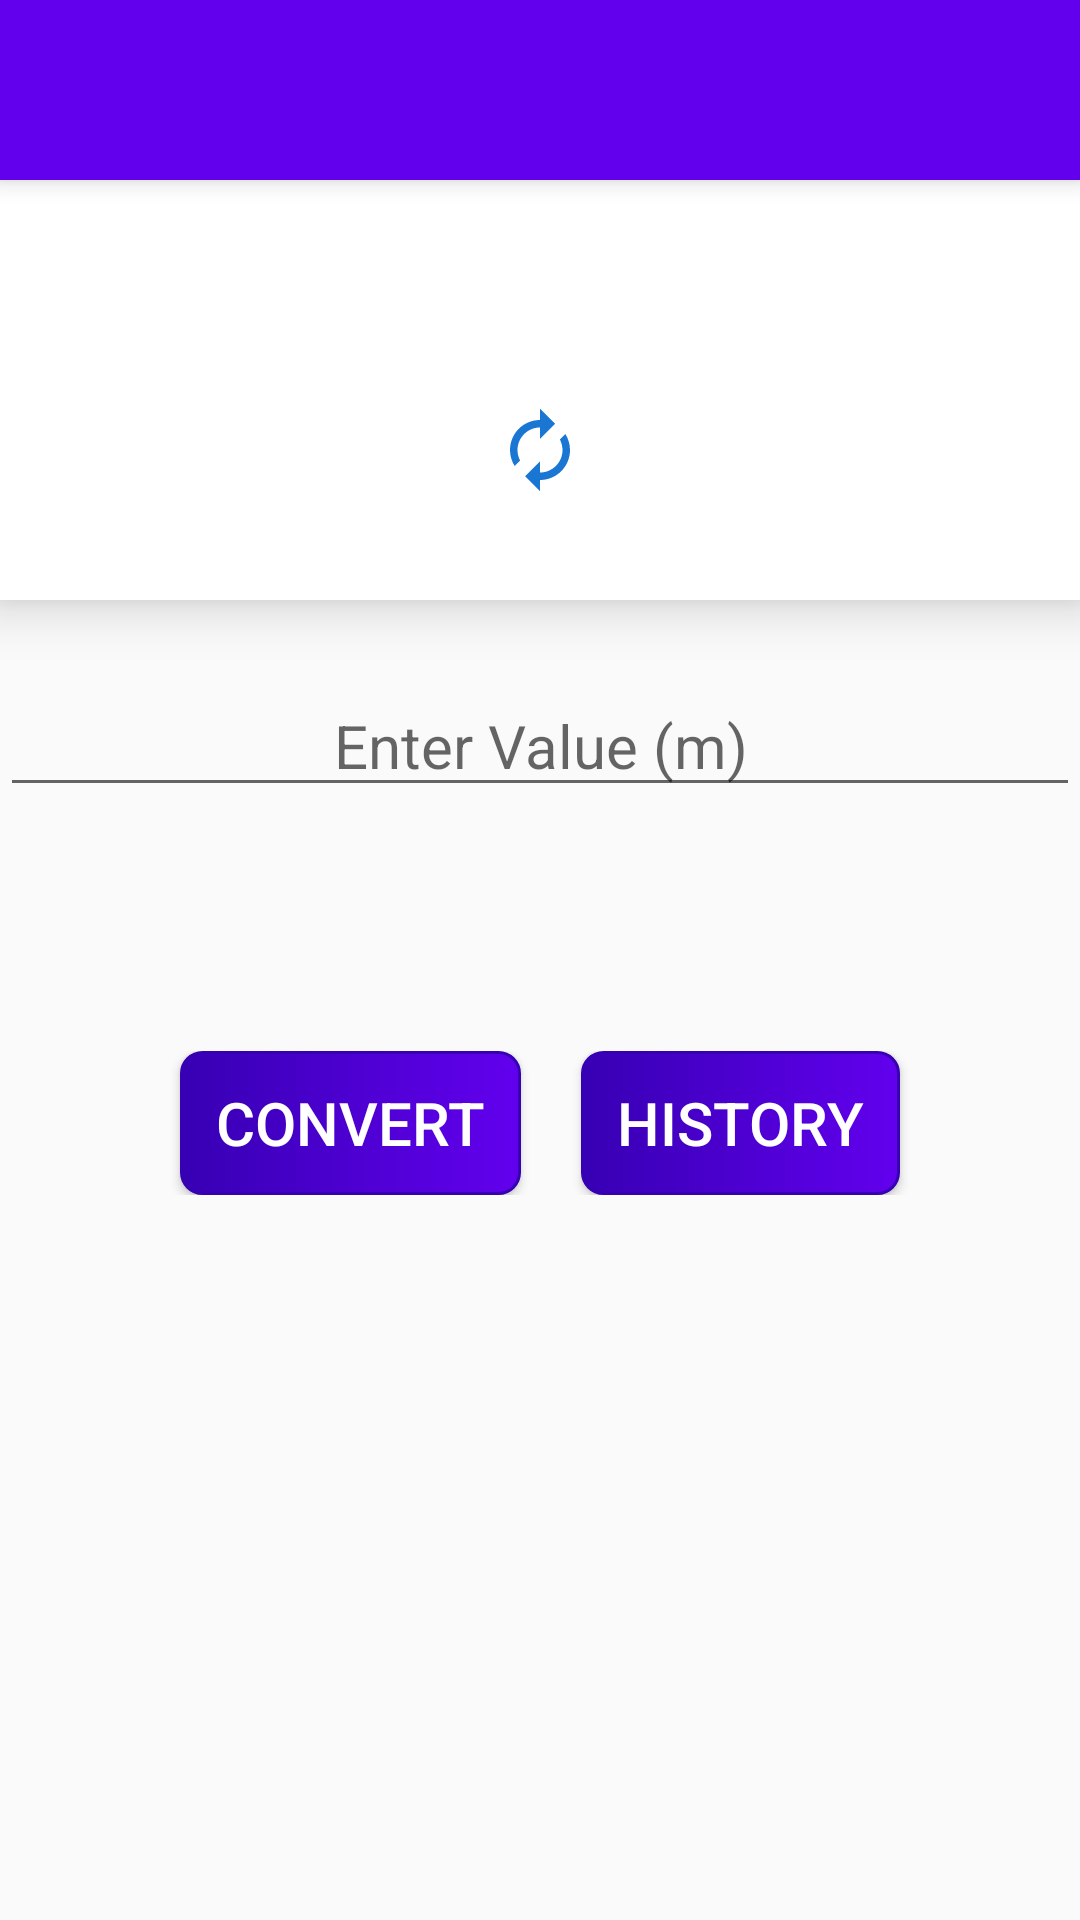

Where icons sit on this 1080 × 1920 app screen, as {"left": x1, "top": y1, "right": x2, "bottom": y2}:
autorenew: {"left": 510, "top": 409, "right": 570, "bottom": 491}
